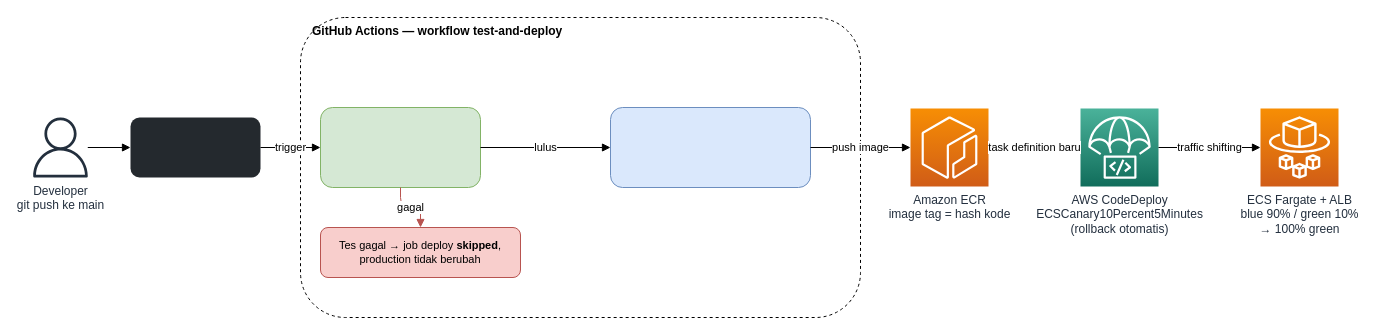
Some shapes in this 1376 by 335 pixel diagram are drawn without their labels. The centre of each missing label's shape, as x and y in pixels:
GitHub repo (branch main): [195,147]
Job deploy (needs: test) docker build → push ECR scripts/deploy.sh: [710,147]
Job test pytest + moto (S3 tiruan) 7 unit test: [400,147]
